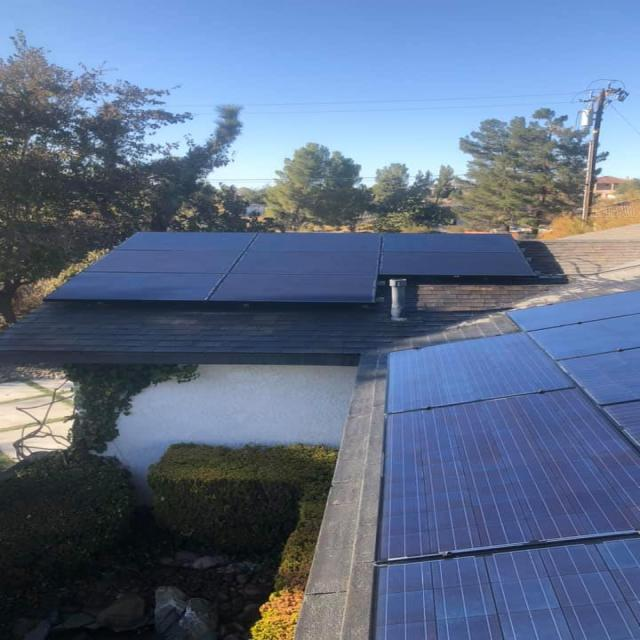clean-solar-panel: (48, 232, 535, 302)
